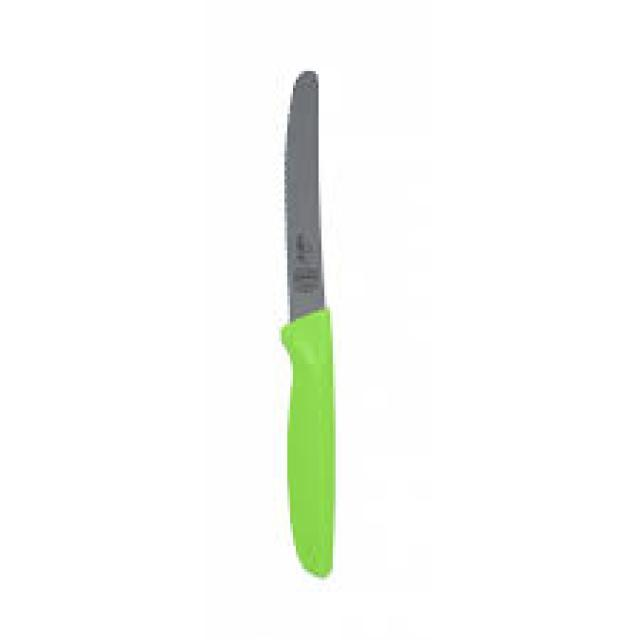Knife: (278, 68, 336, 578)
